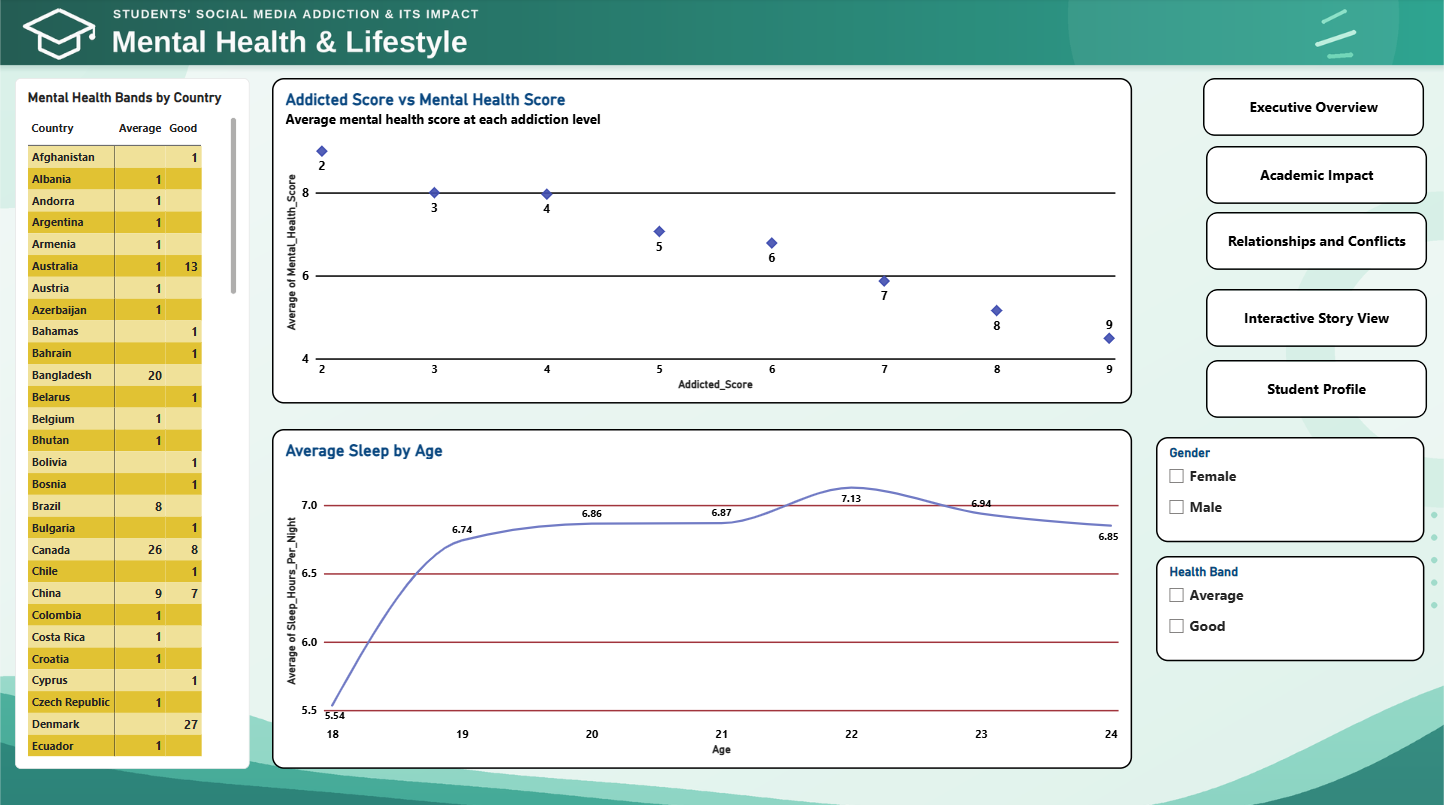

What the dashboard file says about the page in this screenshot:
{"tool":"powerbi","page":{"name":"Mental Health & Lifestyle","canvas":[1920,1080],"ordinal":1},"visuals":[{"type":"pivotTable","title":"Mental Health Bands by Country","fields":{"Columns":["Student Details.Health Band"],"Rows":["Student Details.Country"],"Values":["CountNonNull(Student Details.Student_ID)"]},"box":[20.4,106.5,312.2,919.1],"z":0},{"type":"scatterChart","title":"Addicted Score vs Mental Health Score","fields":{"X":["Student Details.Addicted_Score"],"Y":["Student Details.Mental_Health_Score"]},"box":[361.8,106.5,1143.8,433.3],"z":1000},{"type":"lineChart","title":"Average Sleep by Age","fields":{"Category":["Student Details.Age"],"Y":["Avg(Student Details.Sleep_Hours_Per_Night)"]},"box":[361.8,573.4,1143.8,452.3],"z":2000},{"type":"actionButton","box":[1603.4,481.5,294.3,77],"z":3000},{"type":"actionButton","box":[1603.4,197,294.3,77],"z":4000},{"type":"actionButton","box":[1603.4,284.5,294.3,77],"z":5000},{"type":"actionButton","box":[1603.4,386.6,294.3,77],"z":6000},{"type":"actionButton","box":[1600.5,106.5,294.3,77],"z":7000},{"type":"slicer","fields":{"Values":["Student Details.Gender"]},"box":[1537.8,583.6,357.4,140.1],"z":8000},{"type":"slicer","fields":{"Values":["Student Details.Health Band"]},"box":[1537.8,742.6,357.4,140.1],"z":9000}]}

Visuals, with their boxes in screenshot pixels (x1, y1, x2, y2), scaled from the page's 1920x1080 canvas onto the 1444x805 screenshot:
"Mental Health Bands by Country" pivotTable: <region>15, 79, 250, 764</region>
"Addicted Score vs Mental Health Score" scatterChart: <region>272, 79, 1132, 402</region>
"Average Sleep by Age" lineChart: <region>272, 427, 1132, 765</region>
actionButton: <region>1206, 359, 1427, 416</region>
actionButton: <region>1206, 147, 1427, 204</region>
actionButton: <region>1206, 212, 1427, 269</region>
actionButton: <region>1206, 288, 1427, 346</region>
actionButton: <region>1204, 79, 1425, 137</region>
slicer - Student Details.Gender: <region>1157, 435, 1425, 539</region>
slicer - Student Details.Health Band: <region>1157, 554, 1425, 658</region>
